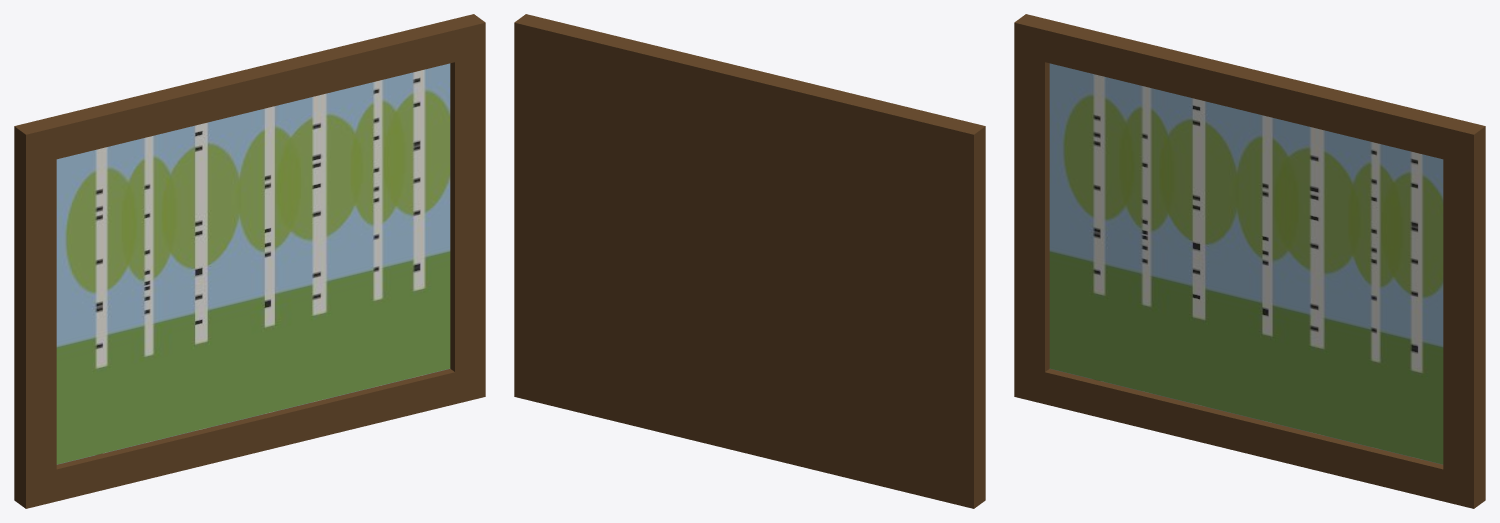
Rendered from painting_birch.glb.
The picture shows the model from 3 angles, left to right: view 1: azimuth 30°, elevation 25°; view 2: azimuth 150°, elevation 25°; view 3: azimuth 330°, elevation 25°; orthographic projection.
Parts seen in each view (by area): view 1: painting; view 2: painting; view 3: painting.
Part boxes in pixels (<box>): painting: <box>14,14,485,508</box>; painting: <box>514,14,985,508</box>; painting: <box>1014,14,1485,508</box>.
Bounding box in the file's own units: 0.9 × 0.7 × 0.04.
Materials: 2 (1 with a texture image).
